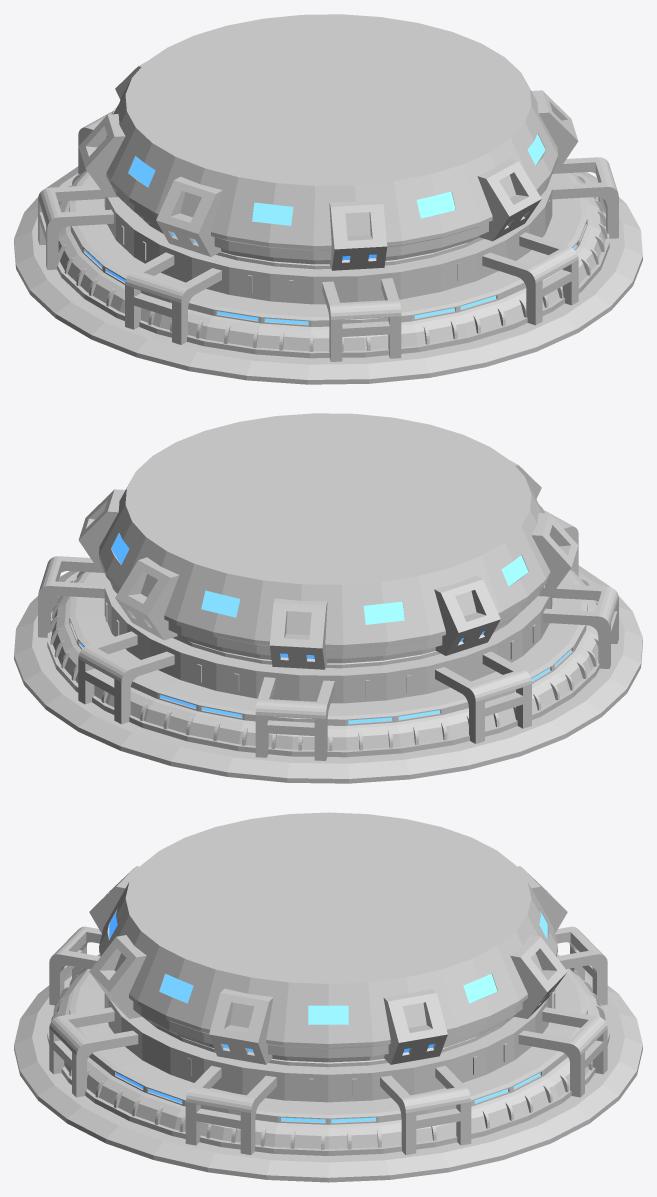
File: Gate.meshopt.glb
3 renders of one model, top to bottom at view 1: azimuth 30°, elevation 25°; view 2: azimuth 150°, elevation 25°; view 3: azimuth 270°, elevation 25°, orthographic.
Visible parts, largest first — view 1: up, btm; view 2: up, btm; view 3: up, btm.
Boxes of the visible parts, box(x1,y1,x2,y2) form: up: box(78, 14, 578, 270); btm: box(14, 111, 642, 384); up: box(78, 413, 578, 669); btm: box(14, 510, 642, 783); up: box(89, 812, 567, 1064); btm: box(14, 926, 642, 1182).
Size of the model in its own units: 6.22 by 1.65 by 6.22.
